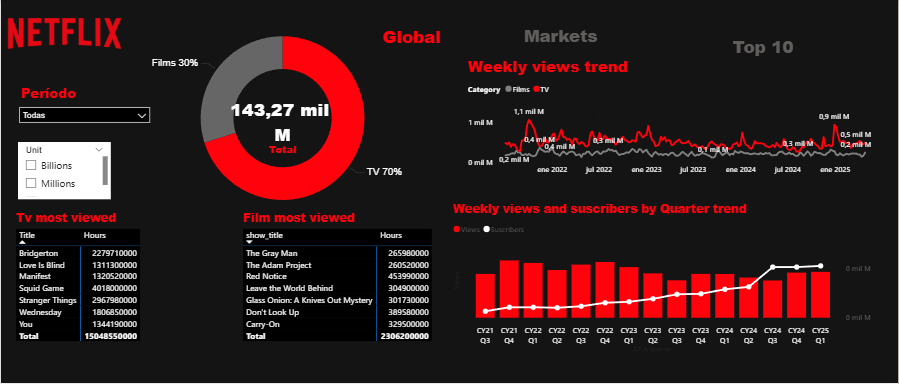

The dashboard page shown, as its layout file describes it:
{"tool":"powerbi","page":{"name":"Global","canvas":[1440,616],"ordinal":1},"visuals":[{"type":"image","box":[0,0,204.4,108.4],"z":0},{"type":"donutChart","fields":{"Y":["metricas 1.global weekl hs"],"Category":["all weeks global.category_group"]},"box":[213.7,0,476.9,382.5],"z":1000},{"type":"card","fields":{"Values":["metricas 1.global weekl hs"]},"box":[350.5,131.6,204.6,144.3],"z":2000},{"type":"pivotTable","title":"Tv most viewed","fields":{"Values":["metricas 1.global weekly hs"],"Rows":["all weeks global.show_title"]},"box":[19,337.8,336.2,218.9],"z":3000},{"type":"pivotTable","title":"Film most viewed","fields":{"Values":["metricas 1.global weekly hs"],"Rows":["dim_category.show_title"]},"box":[383.8,337.8,382.2,239.5],"z":4000},{"type":"slicer","title":"Period","fields":{"Values":["00_calendar.year"]},"box":[19,131.6,230,120.5],"z":5000},{"type":"lineChart","title":"Weekly views trend","fields":{"Category":["00_calendar.week.Variación.Jerarquía de fechas.Año","00_calendar.week.Variación.Jerarquía de fechas.Trimestre","00_calendar.week.Variación.Jerarquía de fechas.Mes","00_calendar.week.Variación.Jerarquía de fechas.Día"],"Y":["metricas 1.global weekl hs"],"Series":["all weeks global.category_group"]},"box":[745.4,92,672.4,199.8],"z":6000},{"type":"lineStackedColumnComboChart","title":"Weekly views and suscribers by Quarter trend","fields":{"Category":["00_calendar.CY & quarter"],"Y":["metricas 1.global weekl hs"],"Y2":["metricas 1.suscribers global"]},"box":[720,321.9,697.8,249],"z":7000},{"type":"actionButton","box":[814.5,34.1,168.8,51.1],"z":8000},{"type":"actionButton","box":[1156.1,52.3,134.8,39.6],"z":9000},{"type":"actionButton","box":[599.2,34.1,120.8,52.6],"z":10000},{"type":"slicer","fields":{"Values":["Slicer.Unit"]},"box":[99.8,99.8,149.6,91.7],"z":10001}]}

Visuals, with their boxes in screenshot pixels (x1, y1, x2, y2), scaled from the page's 1440x616 canvas onto the 899x384 screenshot:
image: <region>0, 0, 128, 68</region>
donutChart - metricas 1.global weekl hs x all weeks global.category_group: <region>133, 0, 431, 238</region>
card - metricas 1.global weekl hs: <region>219, 82, 347, 172</region>
"Tv most viewed" pivotTable: <region>12, 211, 222, 347</region>
"Film most viewed" pivotTable: <region>240, 211, 478, 360</region>
"Period" slicer: <region>12, 82, 155, 157</region>
"Weekly views trend" lineChart: <region>465, 57, 885, 182</region>
"Weekly views and suscribers by Quarter trend" lineStackedColumnComboChart: <region>450, 201, 885, 356</region>
actionButton: <region>508, 21, 614, 53</region>
actionButton: <region>722, 33, 806, 57</region>
actionButton: <region>374, 21, 450, 54</region>
slicer - Slicer.Unit: <region>62, 62, 156, 119</region>
